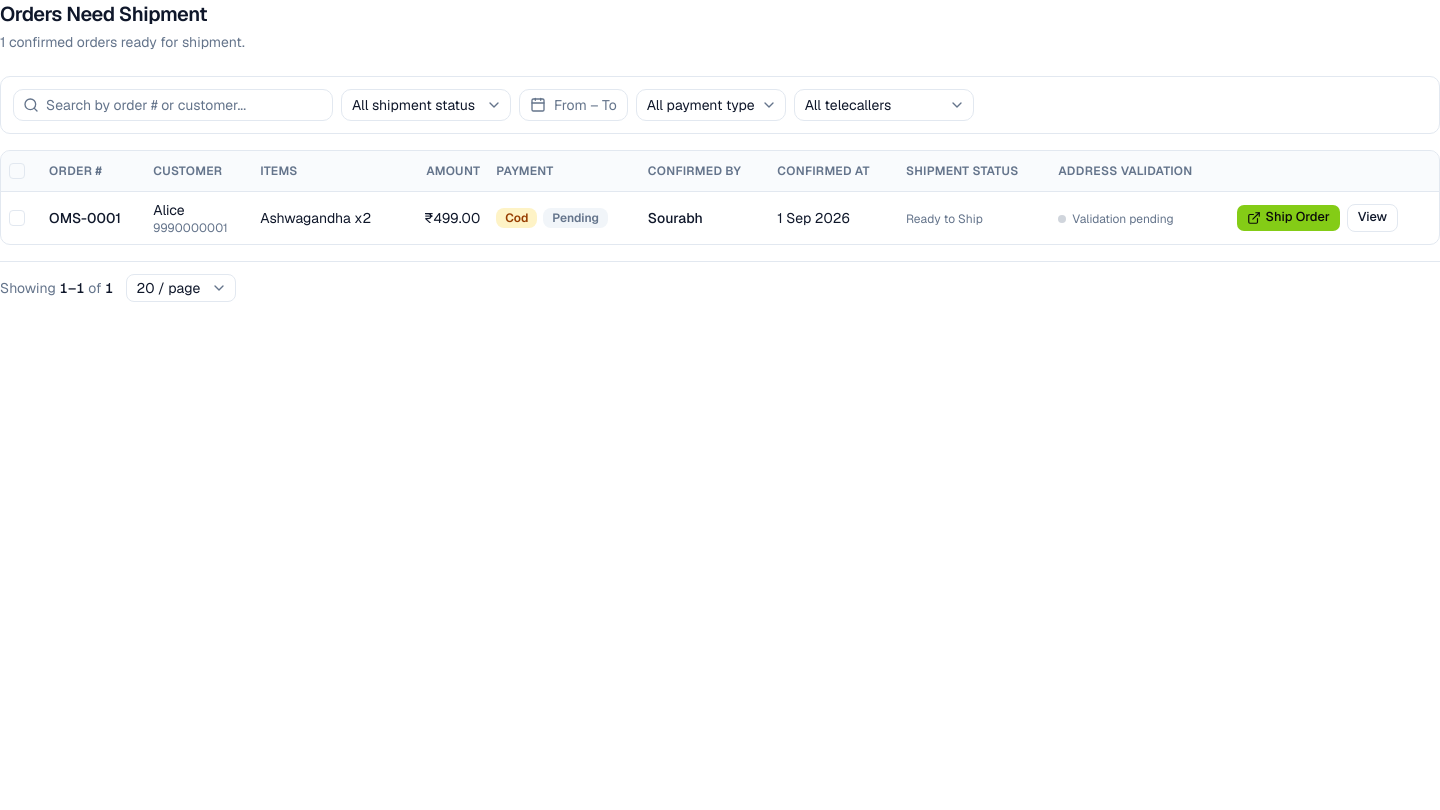
FulfillmentOrdersPage › shows the processing state, then courier + AWB on success
Click the button "Ship Order" at (1289, 218), box [1236,204,1341,232]
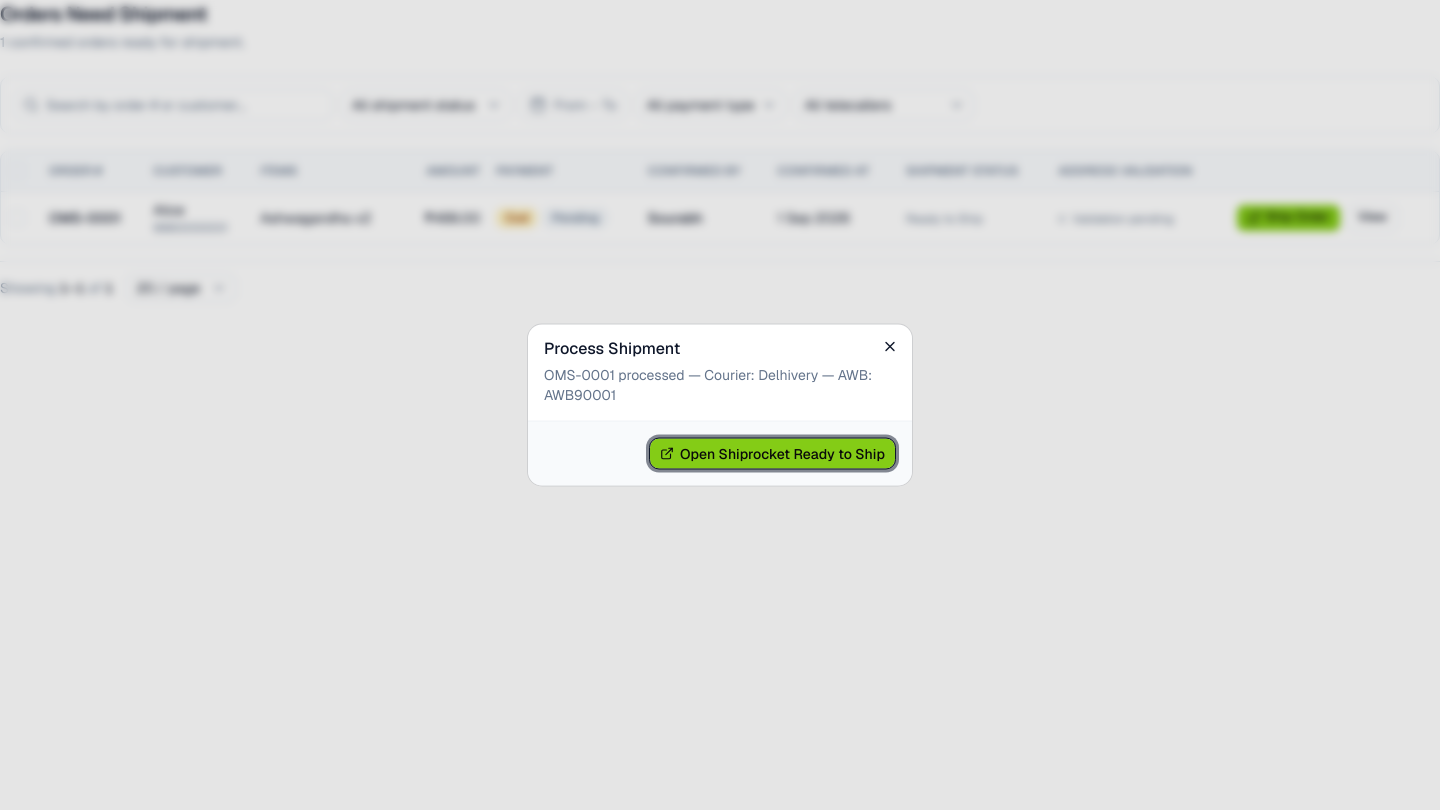
Now the text "OMS-0001 processed — Courier: Delhivery — AWB: AWB90001" is shown, box [544,364,896,404]
